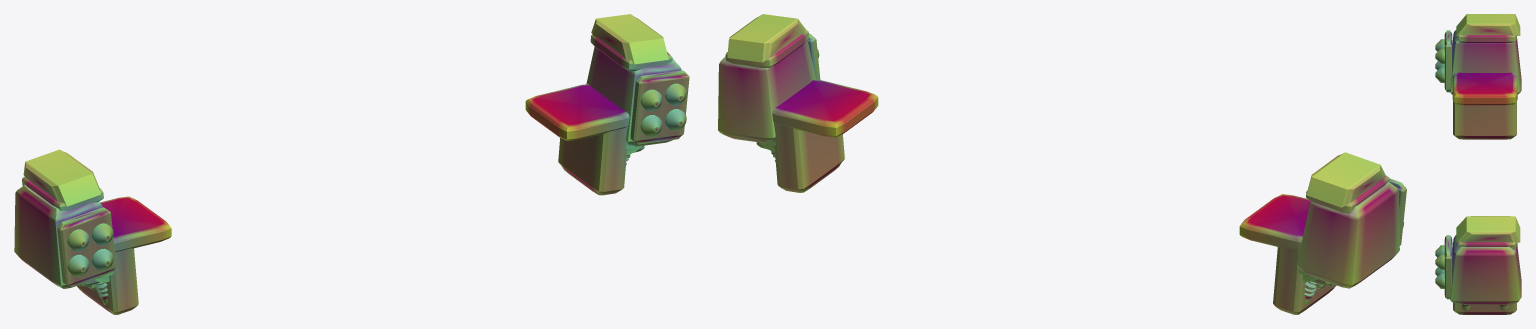
Rendered from llm_gen_shoulder_pods_054_c71015.glb.
3 renders of one model, left to right at view 1: azimuth 30°, elevation 25°; view 2: azimuth 150°, elevation 25°; view 3: azimuth 270°, elevation 25°, orthographic. The views are drawn at different scales.
Visible parts, largest first — view 1: adapter_shoulder_yoke_r, adapter_shoulder_yoke_l, missile_box_hull_1_adapter_dark_l, missile_top_cowl_3_crimson_gloss_l, missile_box_hull_1_adapter_dark_r, missile_top_cowl_3_crimson_gloss_r, adapter_sub_missile_bezel_dark_4_adapter_dark_r, adapter_sub_missile_bezel_dark_4_adapter_dark_l, adapter_sub_missile_hood_dark_2_adapter_dark_r, adapter_sub_missile_hood_dark_2_adapter_dark_l; view 2: adapter_shoulder_yoke_r, missile_box_hull_1_adapter_dark_l, missile_box_hull_1_adapter_dark_r, adapter_shoulder_yoke_l, missile_top_cowl_3_crimson_gloss_l, missile_top_cowl_3_crimson_gloss_r, adapter_sub_missile_hood_dark_2_adapter_dark_r, adapter_sub_missile_hood_dark_2_adapter_dark_l; view 3: adapter_shoulder_yoke_l, missile_box_hull_1_adapter_dark_r, missile_box_hull_1_adapter_dark_l, missile_top_cowl_3_crimson_gloss_r, missile_top_cowl_3_crimson_gloss_l, adapter_shoulder_yoke_r, adapter_sub_missile_bezel_dark_4_adapter_dark_r, adapter_sub_missile_bezel_dark_4_adapter_dark_l, adapter_sub_missile_hood_dark_2_adapter_dark_l, adapter_sub_missile_hood_dark_2_adapter_dark_r, missile_cell_bl_7_gold_l, missile_cell_br_8_gold_r (+4 smaller).
Part boxes in pixels (box(x1,y1,x2,y2)): adapter_shoulder_yoke_r: box(525, 84, 644, 195); adapter_shoulder_yoke_l: box(77, 196, 171, 314); missile_box_hull_1_adapter_dark_l: box(14, 185, 102, 288); missile_top_cowl_3_crimson_gloss_l: box(23, 149, 101, 206); missile_box_hull_1_adapter_dark_r: box(586, 47, 681, 146); missile_top_cowl_3_crimson_gloss_r: box(591, 14, 668, 64); adapter_sub_missile_bezel_dark_4_adapter_dark_r: box(630, 70, 689, 144); adapter_sub_missile_bezel_dark_4_adapter_dark_l: box(57, 207, 116, 287); adapter_sub_missile_hood_dark_2_adapter_dark_r: box(590, 34, 672, 71); adapter_sub_missile_hood_dark_2_adapter_dark_l: box(22, 177, 103, 211); adapter_shoulder_yoke_r: box(756, 79, 878, 192); missile_box_hull_1_adapter_dark_l: box(1296, 182, 1399, 288); missile_box_hull_1_adapter_dark_r: box(718, 40, 815, 143); adapter_shoulder_yoke_l: box(1239, 194, 1336, 314); missile_top_cowl_3_crimson_gloss_l: box(1307, 152, 1385, 207); missile_top_cowl_3_crimson_gloss_r: box(727, 14, 805, 62); adapter_sub_missile_hood_dark_2_adapter_dark_r: box(725, 29, 809, 67); adapter_sub_missile_hood_dark_2_adapter_dark_l: box(1306, 175, 1389, 213); adapter_shoulder_yoke_l: box(1452, 72, 1517, 139); missile_box_hull_1_adapter_dark_r: box(1449, 235, 1521, 304); missile_box_hull_1_adapter_dark_l: box(1449, 30, 1521, 94); missile_top_cowl_3_crimson_gloss_r: box(1456, 216, 1520, 242); missile_top_cowl_3_crimson_gloss_l: box(1456, 14, 1520, 35); adapter_shoulder_yoke_r: box(1452, 243, 1517, 314); adapter_sub_missile_bezel_dark_4_adapter_dark_r: box(1444, 235, 1452, 299); adapter_sub_missile_bezel_dark_4_adapter_dark_l: box(1444, 30, 1452, 92); adapter_sub_missile_hood_dark_2_adapter_dark_l: box(1457, 34, 1516, 42); adapter_sub_missile_hood_dark_2_adapter_dark_r: box(1457, 241, 1516, 249); missile_cell_bl_7_gold_l: box(1435, 66, 1444, 82); missile_cell_br_8_gold_r: box(1435, 272, 1444, 288).
Bounding box in the file's own units: 107 × 23.09 × 17.3.
